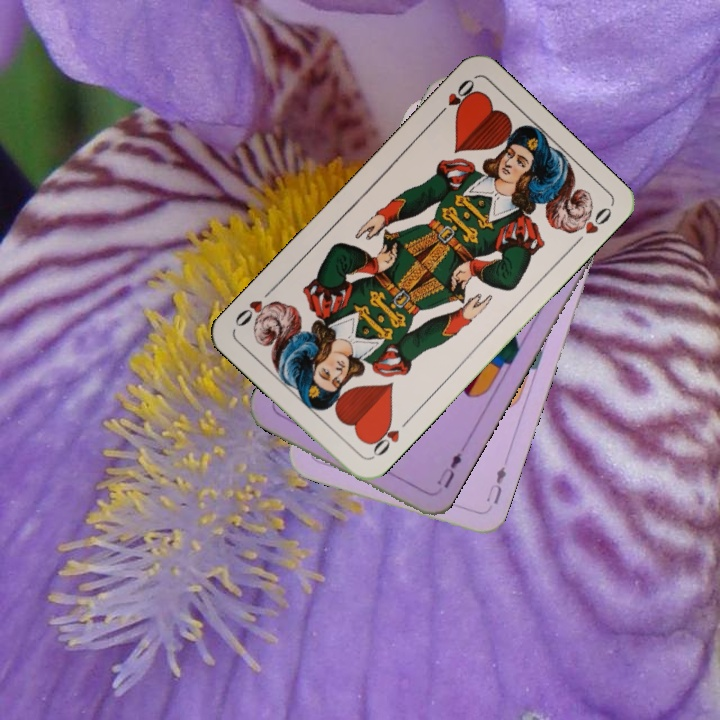EU: (433, 448, 464, 491), (482, 462, 509, 507)
HO: (365, 414, 413, 461), (431, 75, 480, 121)
